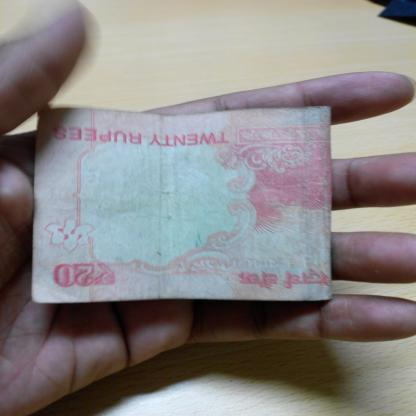Old20Back: (39, 112, 328, 298)
